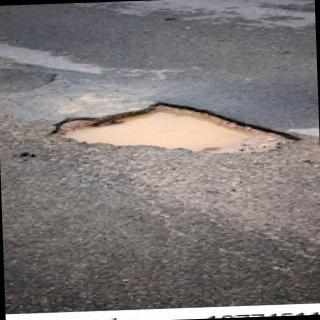pothole: (58, 104, 298, 154)
